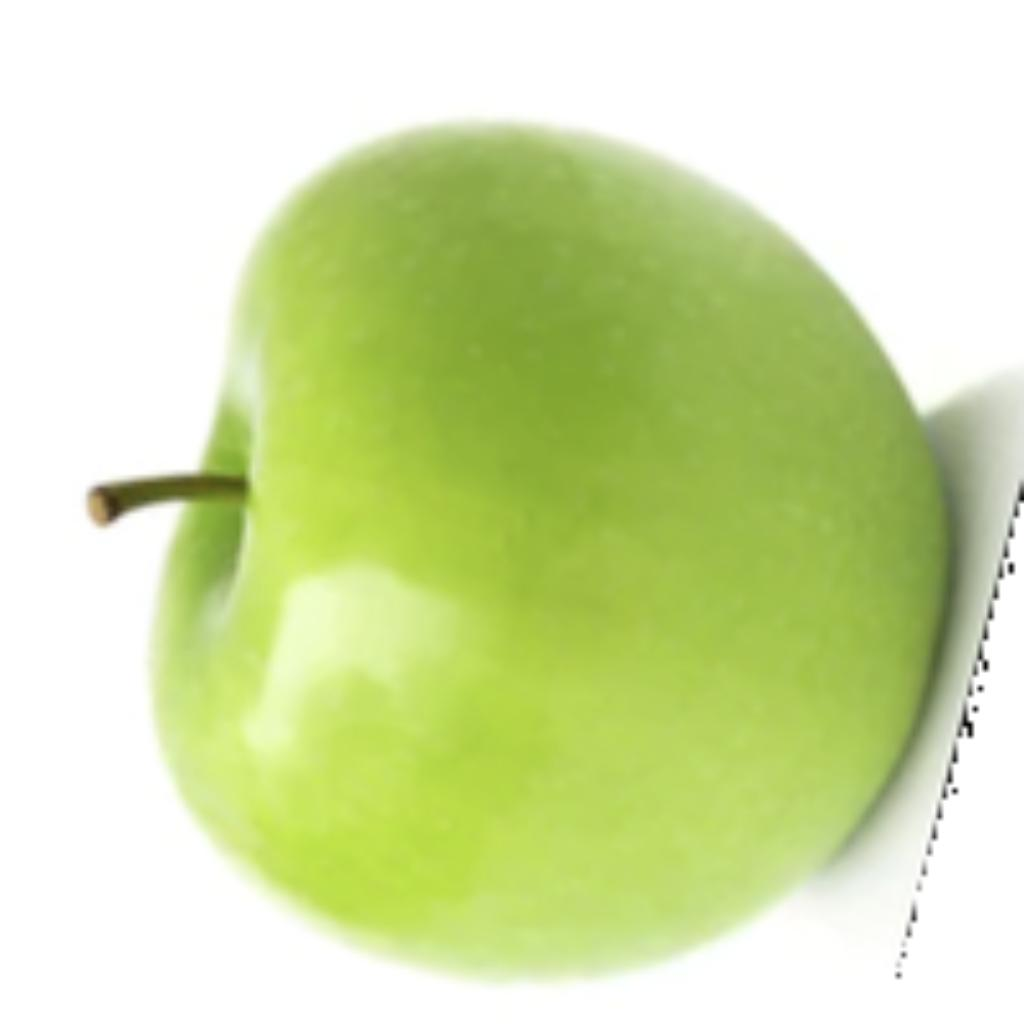apple: (77, 113, 1019, 988)
